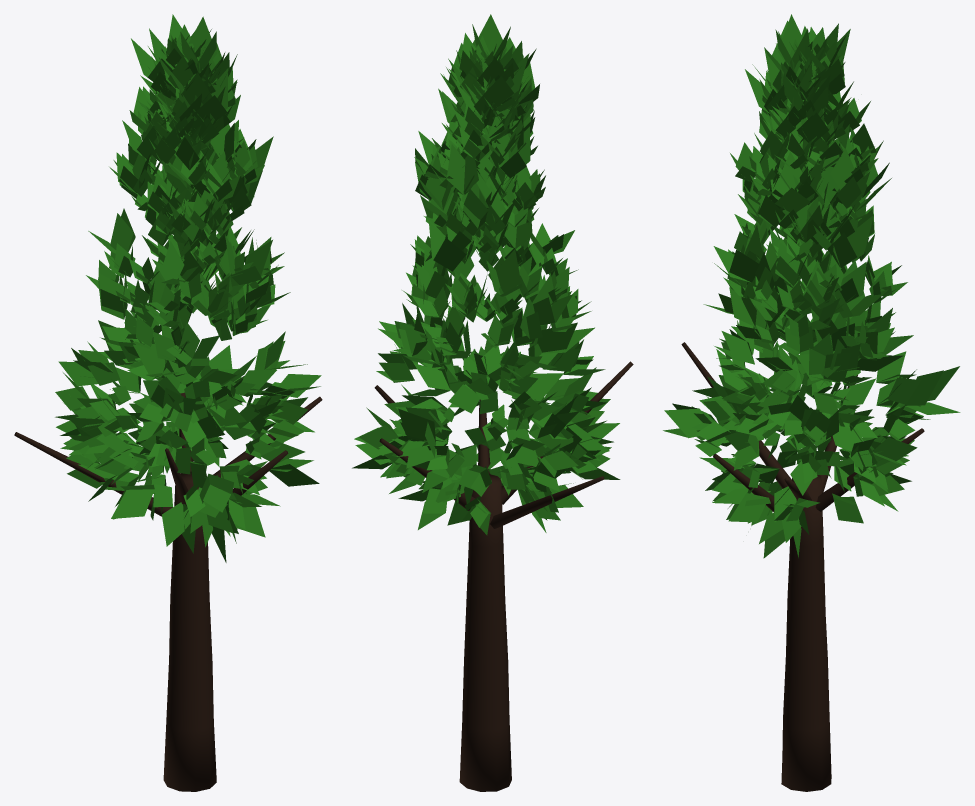
The model's file is Tree_10_B_LOD0.obj.
3 views of the same model, side by side, from view 1: azimuth 30°, elevation 25°; view 2: azimuth 150°, elevation 25°; view 3: azimuth 270°, elevation 25° (orthographic).
Visible parts, largest first — view 1: Leaves, Trunk; view 2: Leaves, Trunk; view 3: Leaves, Trunk.
Part boxes in pixels (x1=…): Leaves: x1=55, y1=14, x2=321, y2=562; Trunk: x1=14, y1=392, x2=322, y2=791; Leaves: x1=352, y1=14, x2=620, y2=535; Trunk: x1=374, y1=361, x2=633, y2=791; Leaves: x1=663, y1=14, x2=960, y2=558; Trunk: x1=681, y1=342, x2=924, y2=791.
Bounding box in the file's own units: 5.29 × 14.31 × 5.1.
